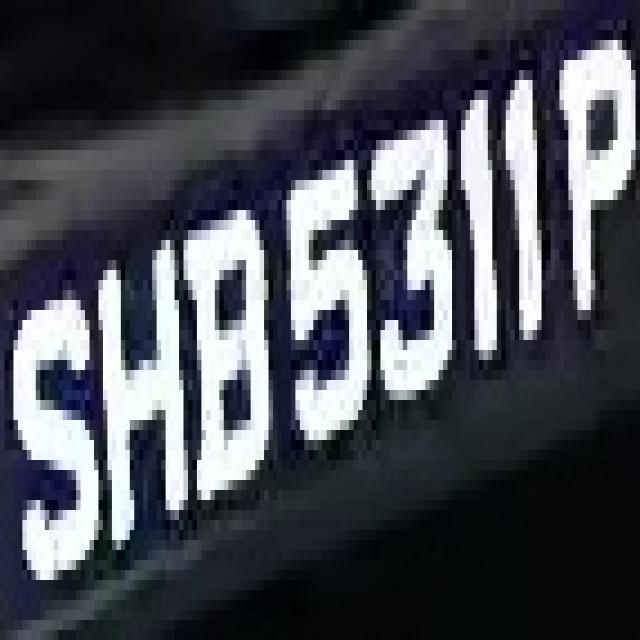1: (443, 100, 501, 390), (501, 70, 546, 380)
3: (363, 100, 452, 410)
5: (282, 140, 367, 450)
B: (183, 190, 282, 520)
H: (94, 230, 192, 550)
P: (550, 10, 640, 350)
S: (9, 270, 103, 600)
